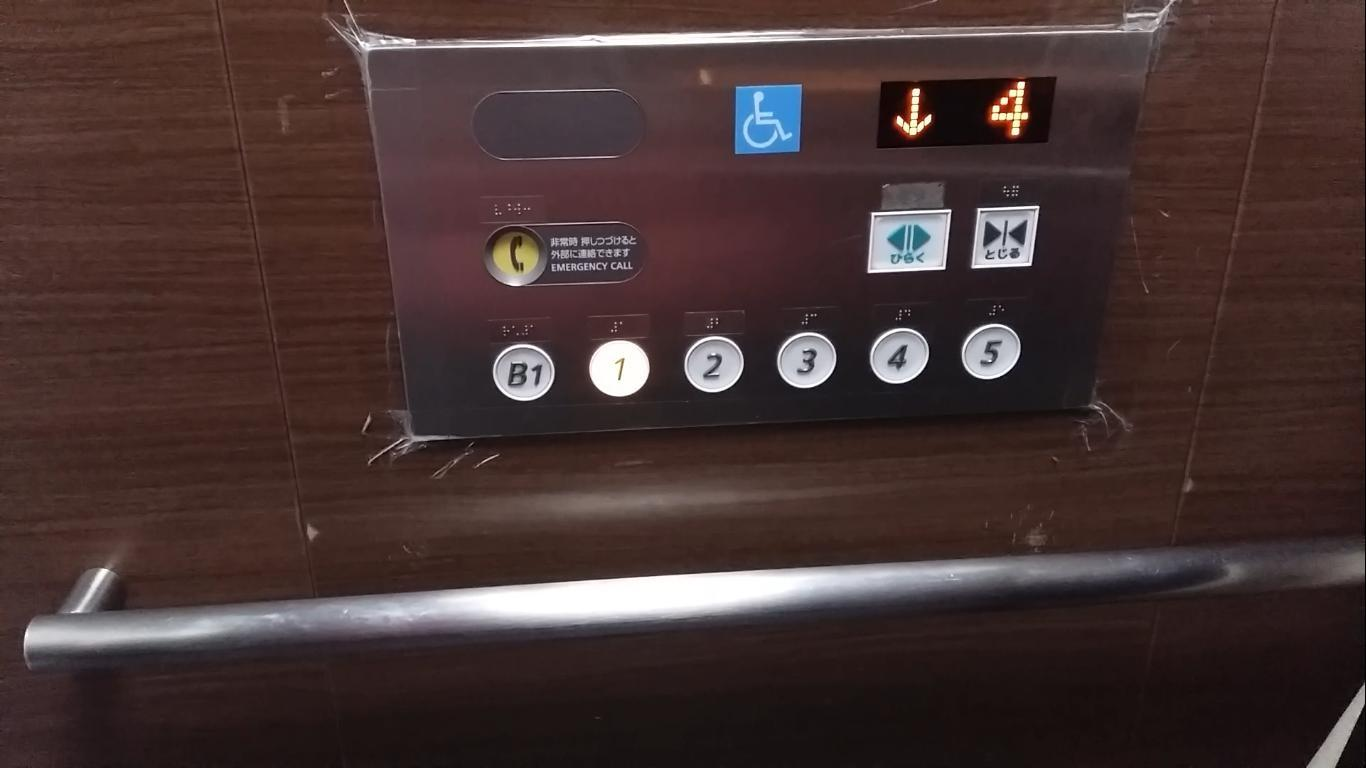1: (586, 338, 649, 395)
2: (682, 335, 745, 392)
3: (774, 330, 837, 389)
4: (866, 325, 929, 384)
5: (959, 321, 1021, 380)
B1: (491, 342, 554, 402)
call: (481, 223, 548, 286)
close: (969, 205, 1038, 269)
led: (877, 76, 1055, 147)
open: (864, 206, 952, 274)
unknown: (469, 88, 647, 158), (731, 83, 800, 155)
